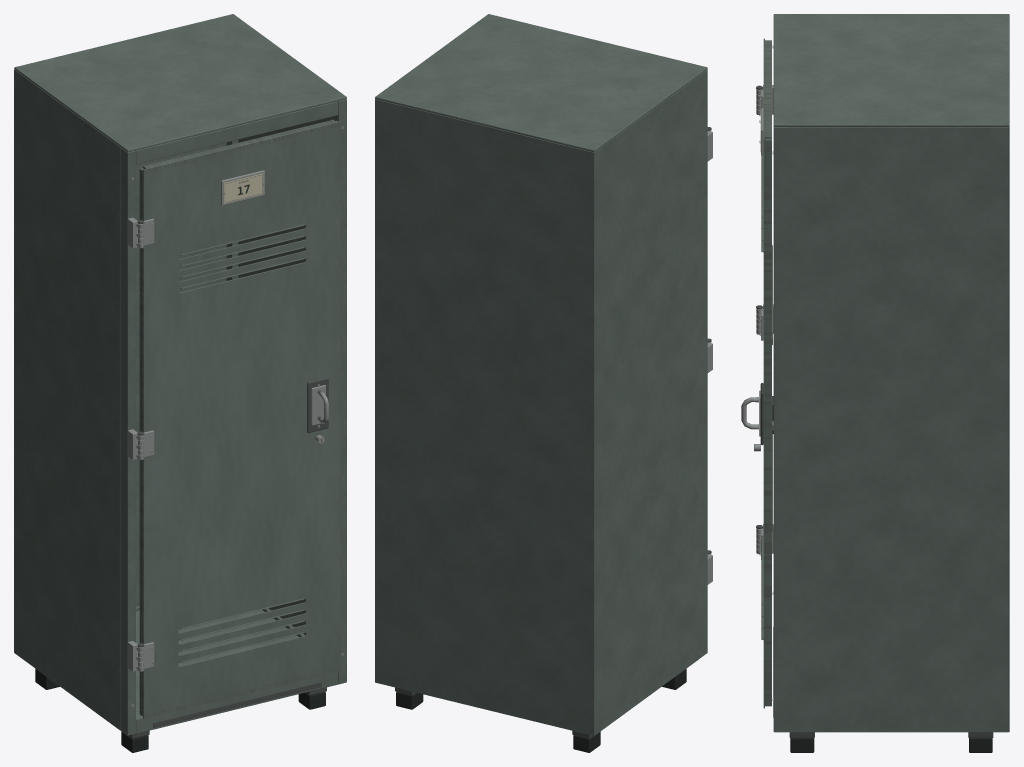
The model's file is ShinShinzui_HidingLocker.glb.
3 views of the same model, side by side, from view 1: azimuth 30°, elevation 25°; view 2: azimuth 150°, elevation 25°; view 3: azimuth 270°, elevation 25° (orthographic). The views are drawn at different scales.
Parts seen in each view (by area): view 1: Locker_Body, Locker_Door; view 2: Locker_Body; view 3: Locker_Body, Locker_Door.
Boxes of the visible parts, left/top/right/bottom form: Locker_Body: left=14, top=14, right=346, bottom=752; Locker_Door: left=138, top=119, right=340, bottom=718; Locker_Body: left=375, top=14, right=712, bottom=752; Locker_Body: left=756, top=14, right=1009, bottom=752; Locker_Door: left=741, top=38, right=773, bottom=708.
Bounding box in the file's own units: 0.78 × 2.08 × 0.7955.
Materials: 6 (3 with a texture image).
